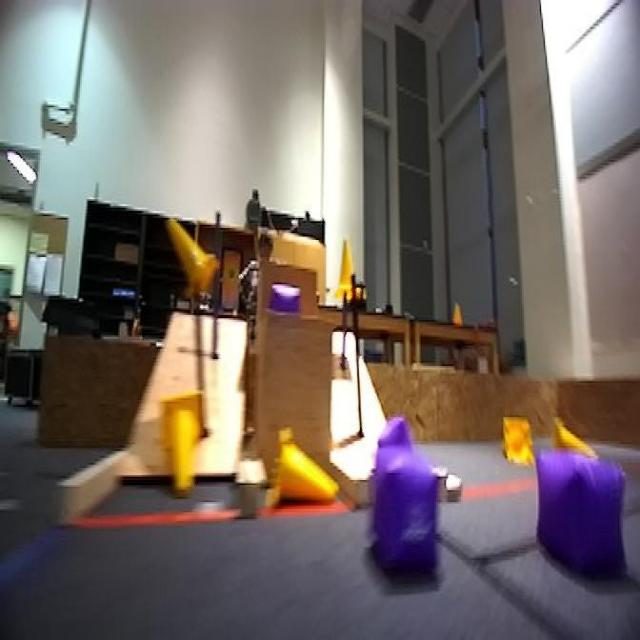frc_cone: (266, 422, 341, 523), (150, 396, 208, 494), (164, 208, 219, 294), (332, 230, 358, 304), (501, 415, 532, 463), (555, 422, 597, 455)
frc_cube: (532, 426, 634, 599), (362, 444, 441, 586), (262, 274, 308, 323), (381, 409, 408, 444)
